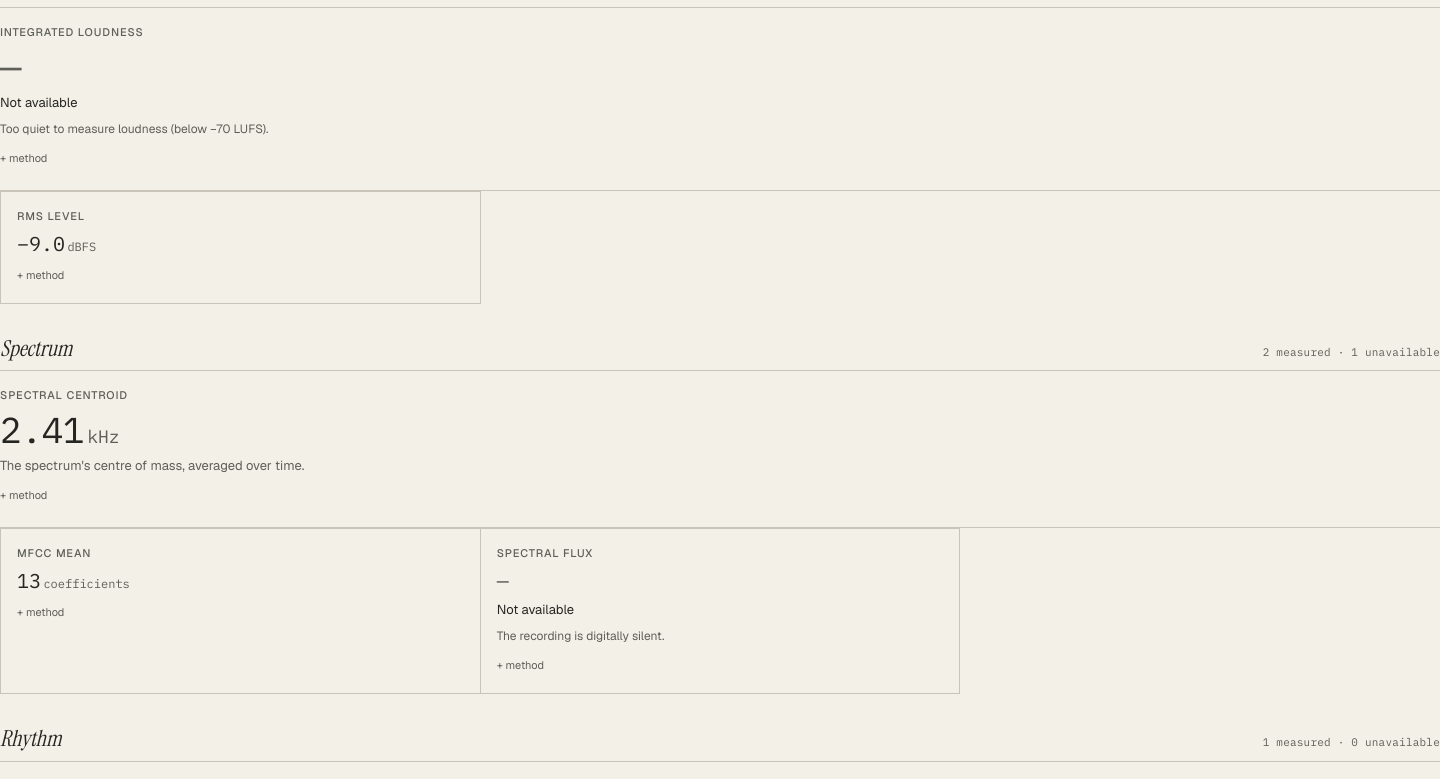
Scenario: MeasurementGrid › shows vector features as a coefficient count with every value on request
Expected: the text "coefficients" is shown, [41, 576, 130, 591]
Step 1. Click the button with aria-label "Method for MFCC mean" → (41, 612), box [17, 600, 64, 624]
(page scrolled)
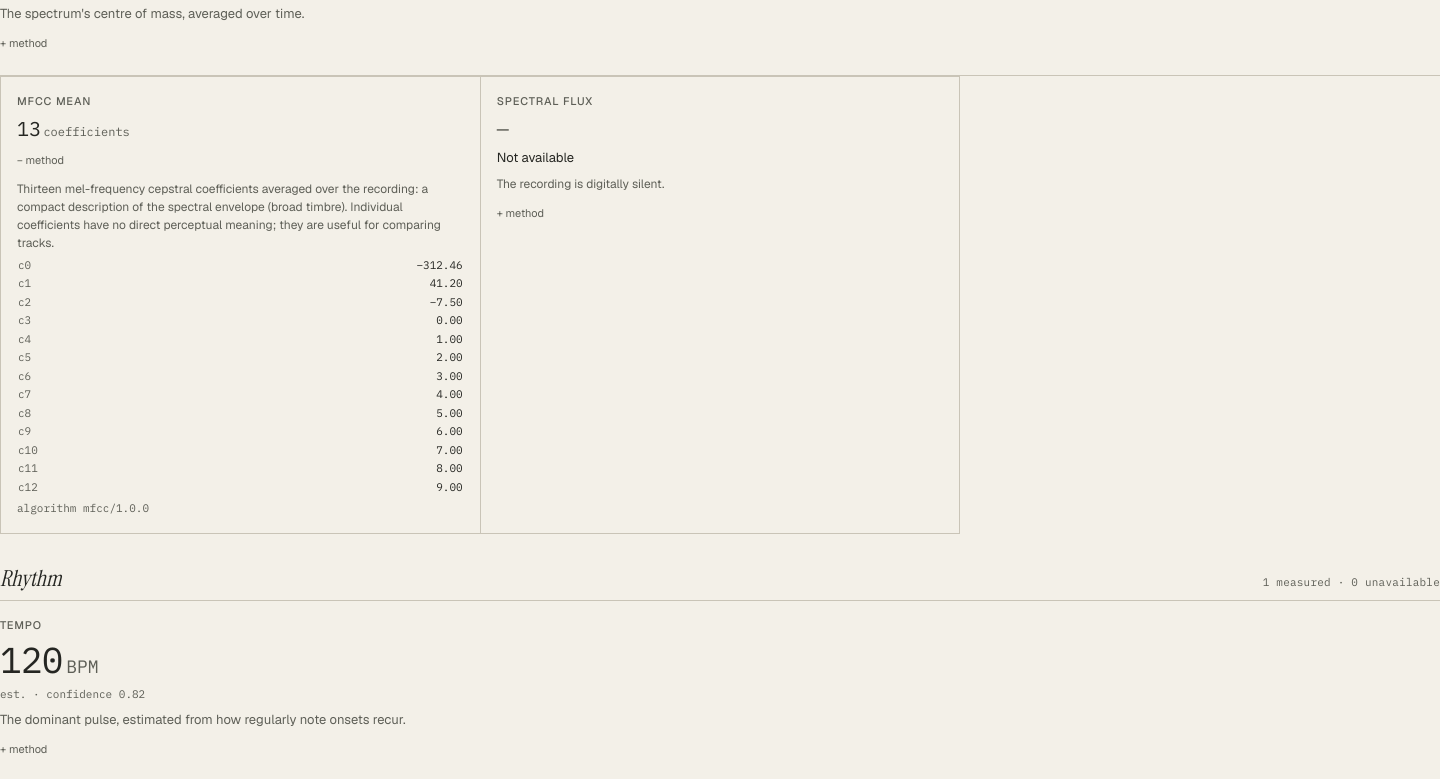
Expected: the column heading "c0" is shown, [17, 256, 198, 274]
Expected: the text "−312.46" is shown, [198, 256, 464, 274]
Expected: the column heading "c12" is shown, [17, 478, 198, 496]
